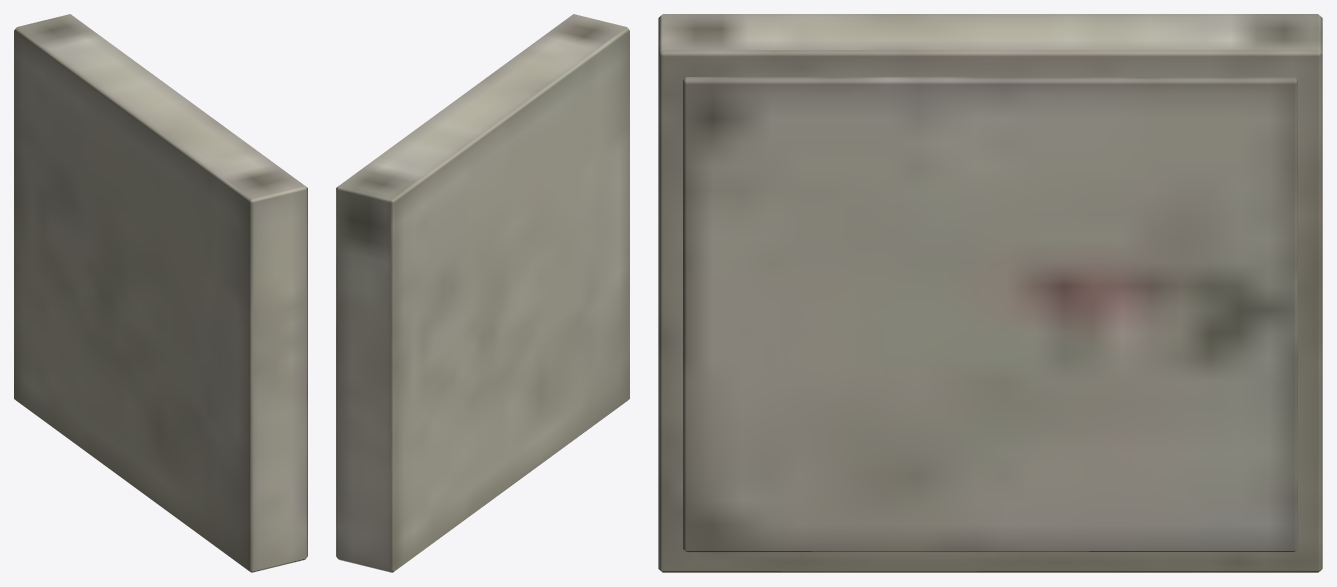
The model's file is electric-box.lod1.glb.
3 views of the same model, side by side, from view 1: azimuth 30°, elevation 25°; view 2: azimuth 150°, elevation 25°; view 3: azimuth 270°, elevation 25° (orthographic). The views are drawn at different scales.
Parts seen in each view (by area): view 1: modular-box-01_electrical boxes_0; view 2: modular-box-01_electrical boxes_0; view 3: modular-box-01_electrical boxes_0.
Boxes of the visible parts, x1,y1,x2,y2 form: modular-box-01_electrical boxes_0: [14, 14, 307, 572]; modular-box-01_electrical boxes_0: [336, 14, 629, 572]; modular-box-01_electrical boxes_0: [658, 14, 1322, 572].
Size of the model in its own units: 0.1092 by 0.6 by 0.6916.
Materials: 1 (1 with a texture image).
